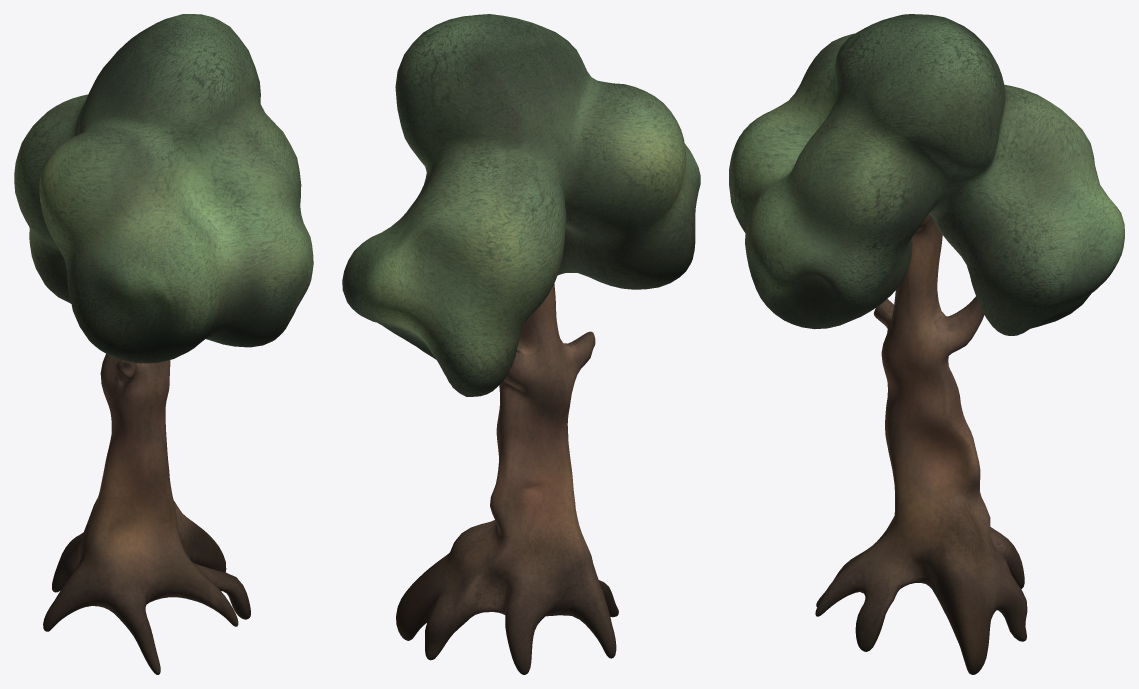
File: tree.fbx
3 views of the same model, side by side, from view 1: azimuth 30°, elevation 25°; view 2: azimuth 150°, elevation 25°; view 3: azimuth 270°, elevation 25° (orthographic). The views are drawn at different scales.
Visible parts, largest first — view 1: Retopo_Cube; view 2: Retopo_Cube; view 3: Retopo_Cube.
Part boxes in pixels (<box>): Retopo_Cube: <box>14,14,313,674</box>; Retopo_Cube: <box>342,14,700,674</box>; Retopo_Cube: <box>729,14,1124,674</box>.
Bounding box in the file's own units: 251 × 593 × 340.
Materials: 1 (1 with a texture image).
